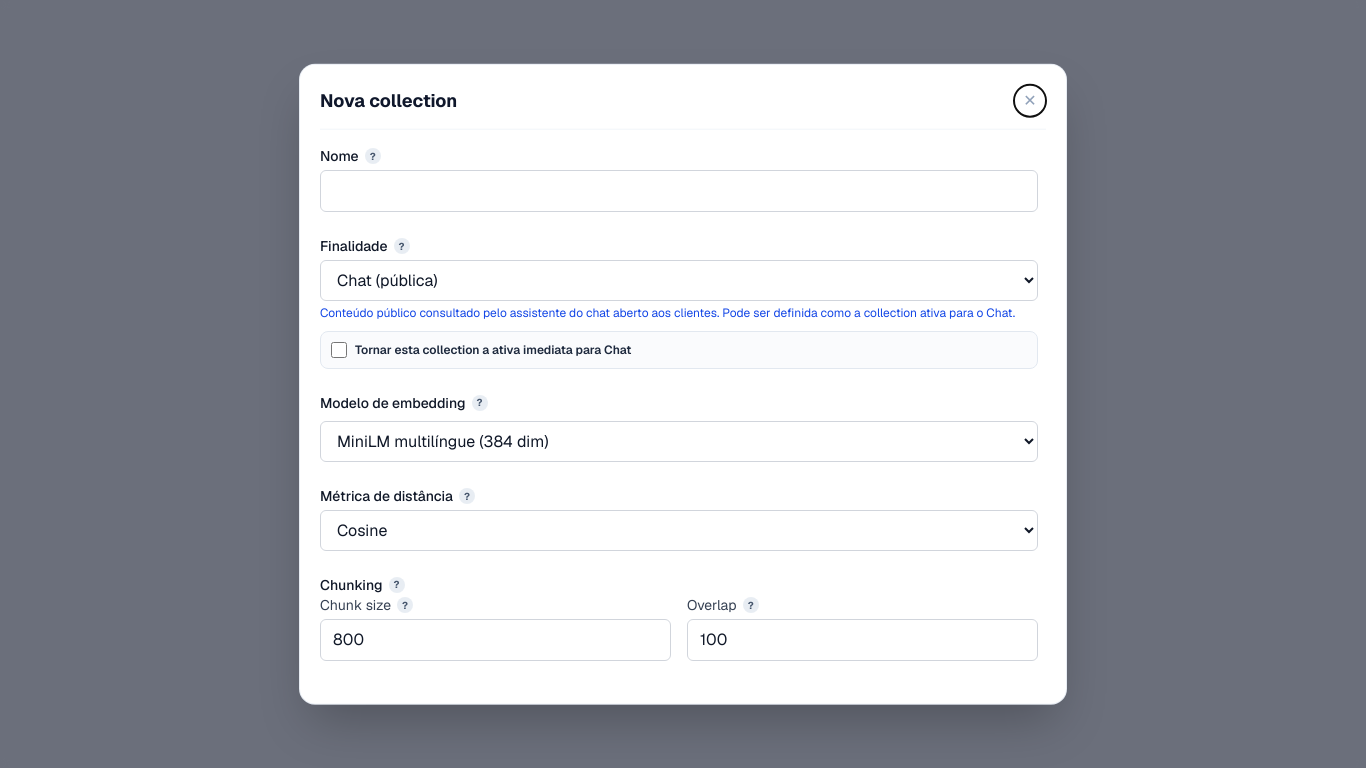
CollectionFormModal › chunk_size menor ou igual ao overlap desabilita o envio e mostra aviso
Type "nova" into the field labelled "Nome" at (679, 191), box top-left (320, 170), bottom-right (1038, 212)
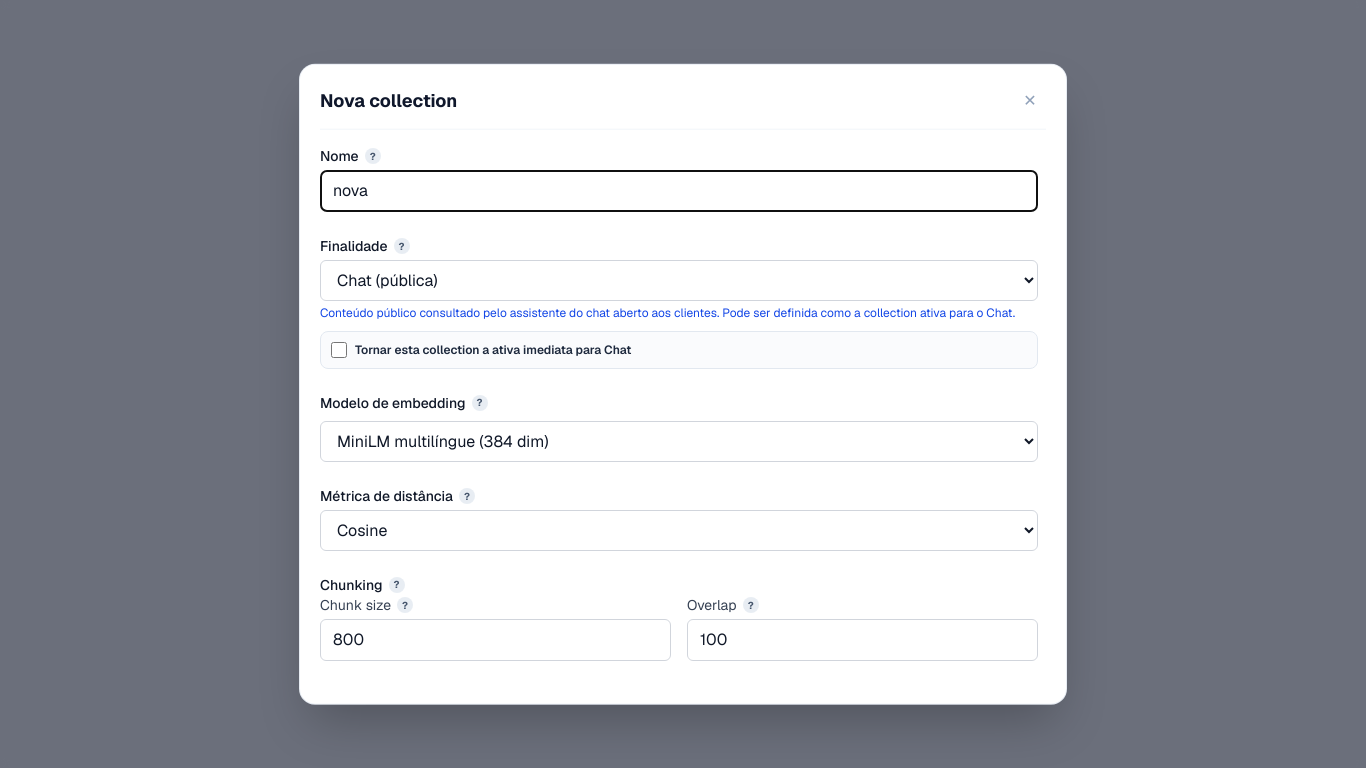
Replace the text in the number field labelled "Chunk size" with "50" at (496, 640), box top-left (320, 619), bottom-right (671, 661)
(page scrolled)
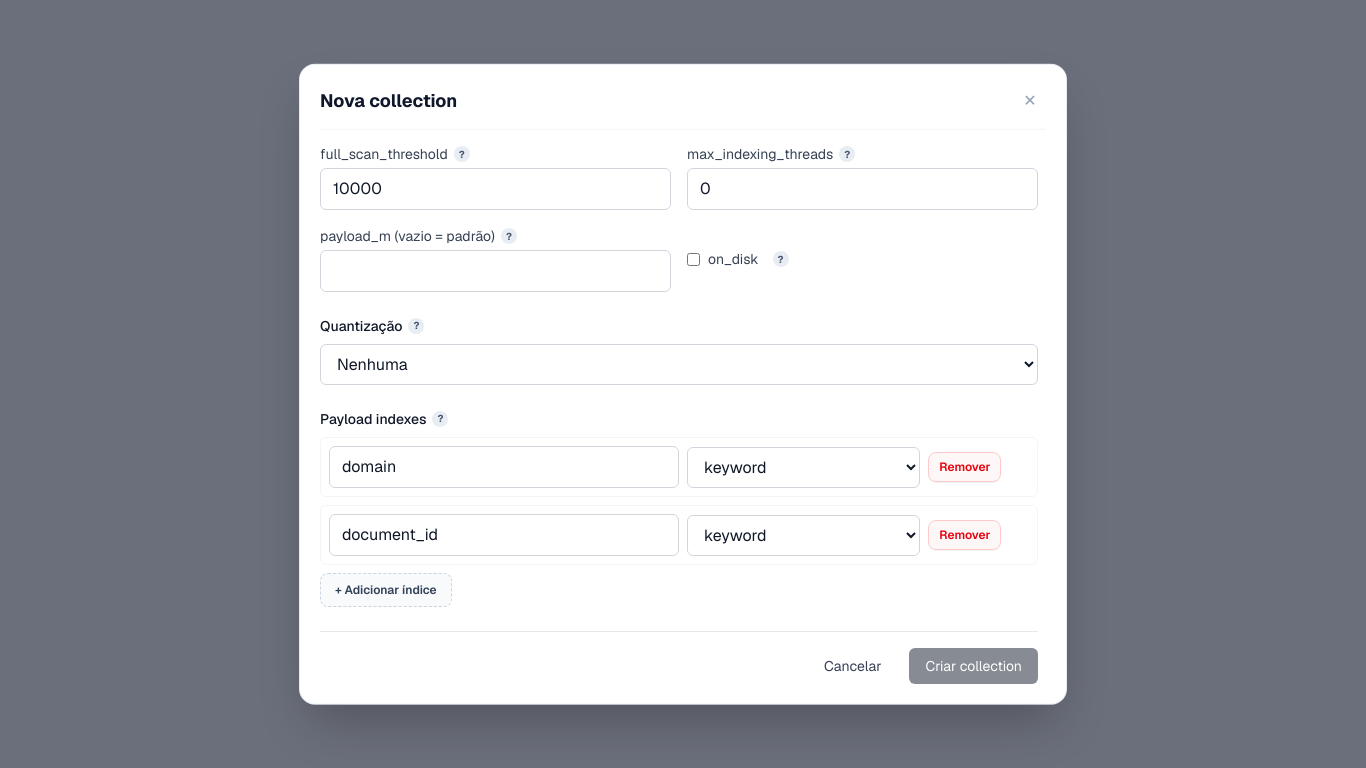
expect the button "Criar collection" is disabled: met, box top-left (909, 648), bottom-right (1038, 683)
